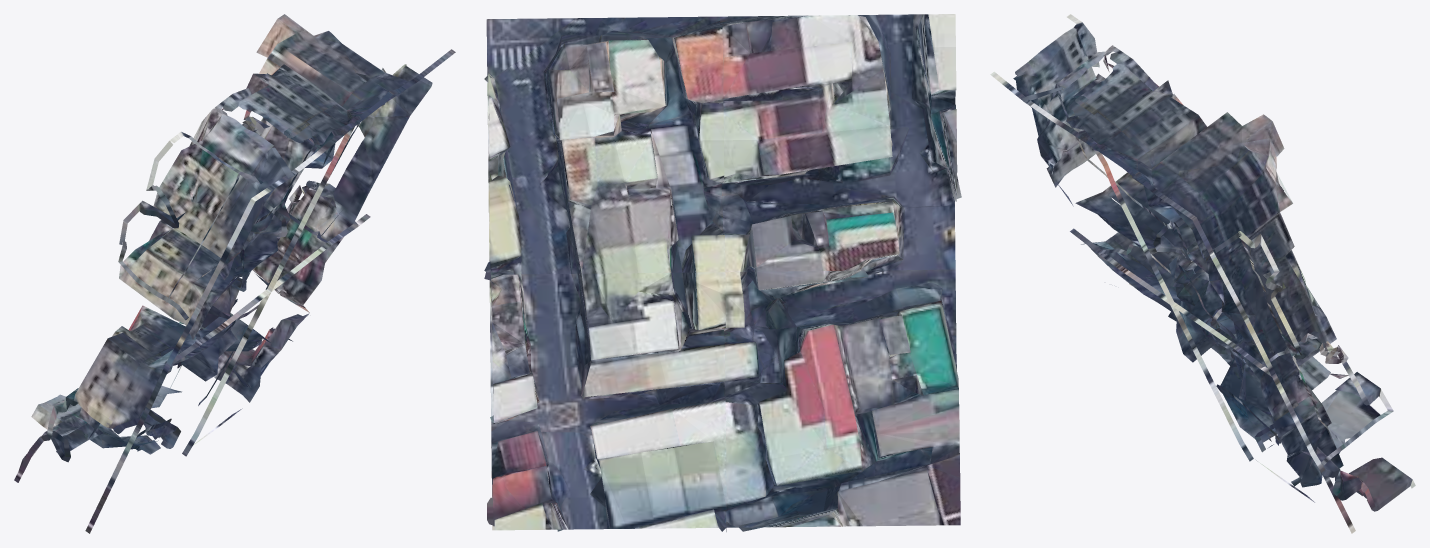
3 views of the same model, side by side, from view 1: azimuth 30°, elevation 25°; view 2: azimuth 150°, elevation 25°; view 3: azimuth 270°, elevation 25° (orthographic). The views are drawn at different scales.
Bounding box in the file's own units: 83.86 × 76.8 × 74.65.
2 materials, 2 textured.
